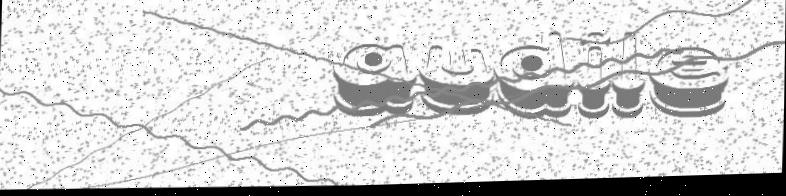a: (331, 39, 419, 123)
d: (493, 32, 577, 126)
e: (645, 41, 732, 124)
i: (578, 30, 613, 123)
l: (610, 27, 650, 124)
u: (418, 42, 497, 123)
